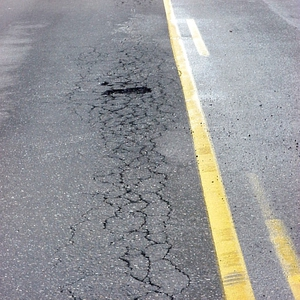pothole: (105, 84, 154, 100)
